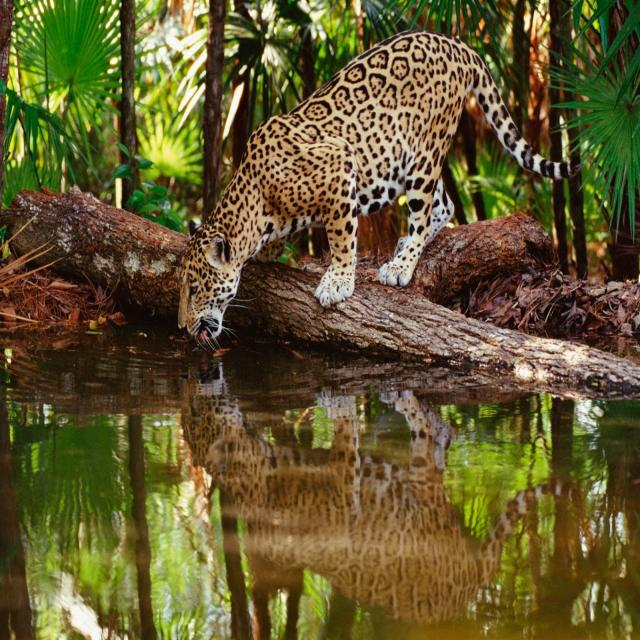Jaguar: (173, 29, 586, 347)
